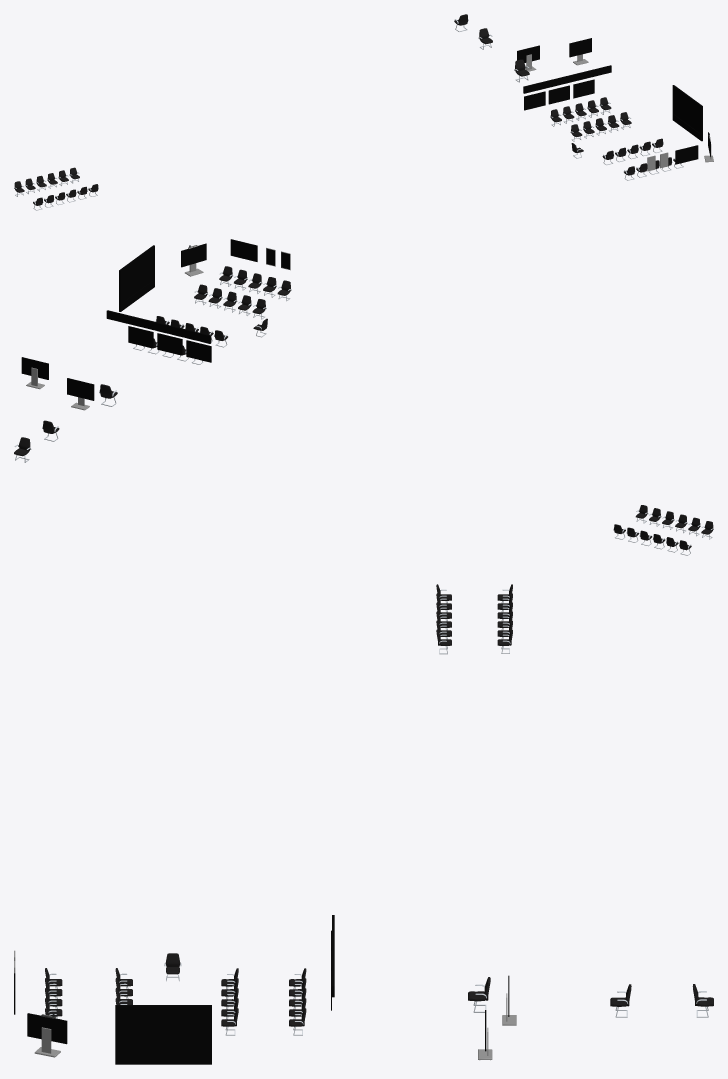
The model's file is meeting room 1.glb.
3 views of the same model, one above another, from view 1: azimuth 30°, elevation 25°; view 2: azimuth 150°, elevation 25°; view 3: azimuth 270°, elevation 25° (orthographic). The views are drawn at different scales.
Parts seen in each view (by area): view 1: 立方体.288, 立方体.141, 立方体.375, 立方体.515; view 2: 立方体.288, 立方体.141; view 3: 立方体.288, 立方体.287, 立方体.281.
Boxes of the visible parts, x1=… form: 立方体.288: x1=672, y1=85, x2=702, y2=135; 立方体.141: x1=523, y1=65, x2=611, y2=93; 立方体.375: x1=675, y1=145, x2=698, y2=164; 立方体.515: x1=569, y1=38, x2=591, y2=57; 立方体.288: x1=119, y1=245, x2=154, y2=305; 立方体.141: x1=106, y1=310, x2=211, y2=343; 立方体.288: x1=115, y1=1005, x2=211, y2=1054; 立方体.287: x1=115, y1=1055, x2=211, y2=1064; 立方体.281: x1=27, y1=1013, x2=67, y2=1044.
Bounding box in the file's own units: 16.4 × 1.01 × 10.45.
Materials: 6 (4 with a texture image).
